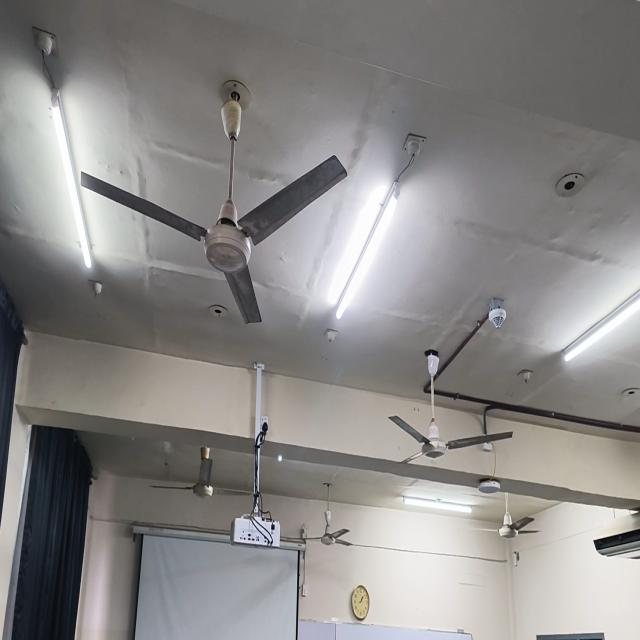Ac: (594, 529, 640, 558)
Light: (335, 133, 426, 320), (51, 82, 92, 269), (562, 290, 640, 362), (403, 495, 472, 513), (33, 27, 56, 80)
Projector: (231, 516, 280, 548)
